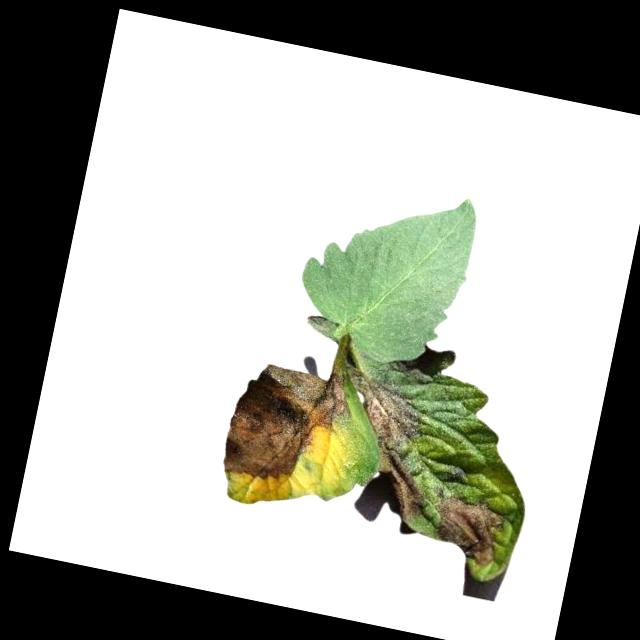Late_blight: (218, 348, 360, 497), (317, 367, 448, 525), (424, 490, 509, 570)
